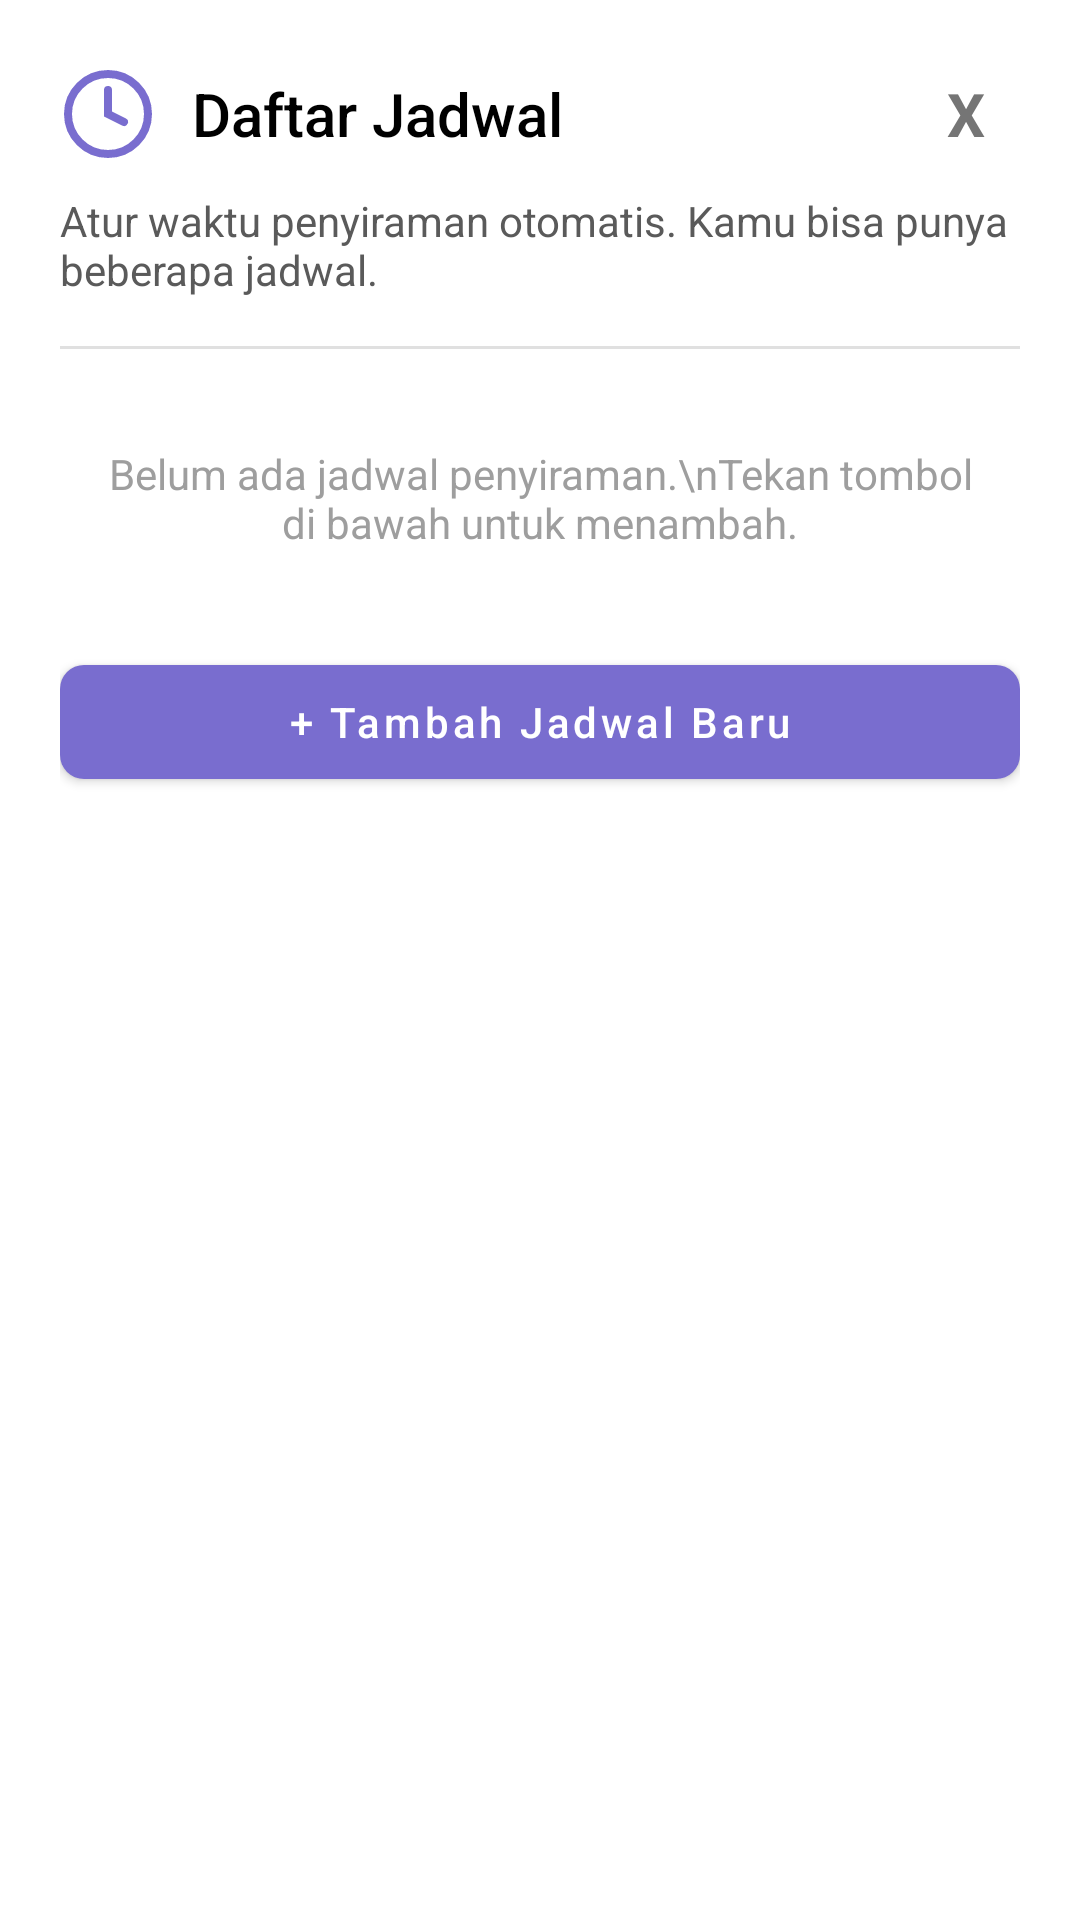

Named icons in this screenshot (1080x1920) and their bounding boxes, {"left": x1, "top": y1, "right": x2, "bottom": y2}:
schedule: {"left": 64, "top": 70, "right": 152, "bottom": 158}
